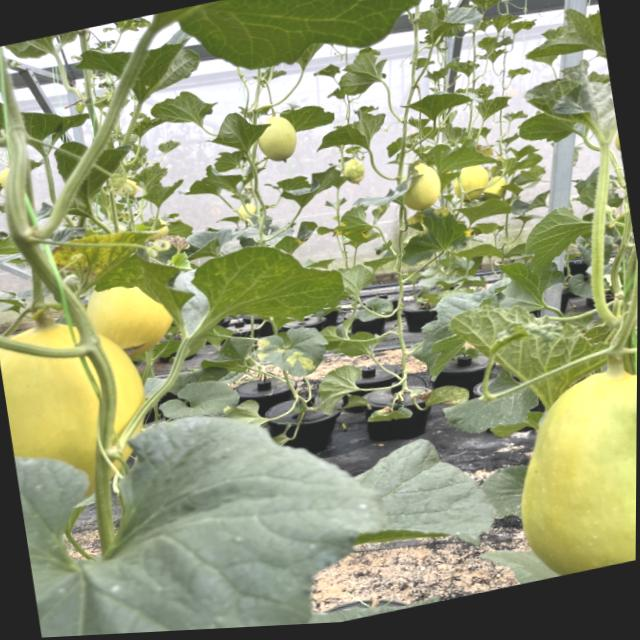CMV: (447, 270, 636, 423), (136, 175, 190, 212)
alternaria leaf blight: (32, 207, 160, 306)
bacterial wilt: (163, 226, 192, 256)
downy mildew: (10, 368, 375, 639), (442, 382, 542, 445), (518, 2, 606, 72), (402, 196, 477, 272), (155, 372, 247, 424)
healthy: (349, 427, 497, 564), (280, 572, 505, 625), (519, 201, 600, 276), (257, 322, 334, 384), (396, 80, 485, 126), (313, 109, 396, 158), (302, 362, 372, 420), (326, 49, 401, 101), (271, 164, 346, 213), (149, 88, 224, 133), (184, 158, 254, 206), (511, 102, 578, 151), (273, 98, 348, 141), (211, 108, 272, 158), (433, 137, 496, 177), (335, 327, 392, 362)
